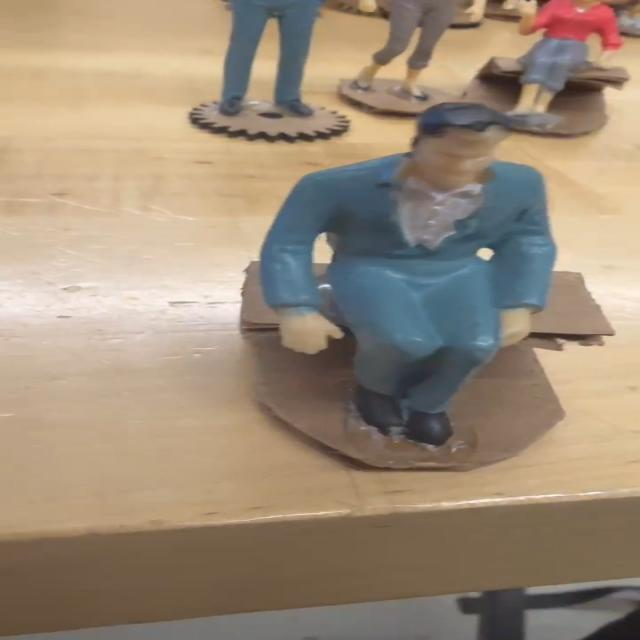Authorized: (249, 105, 567, 448)
